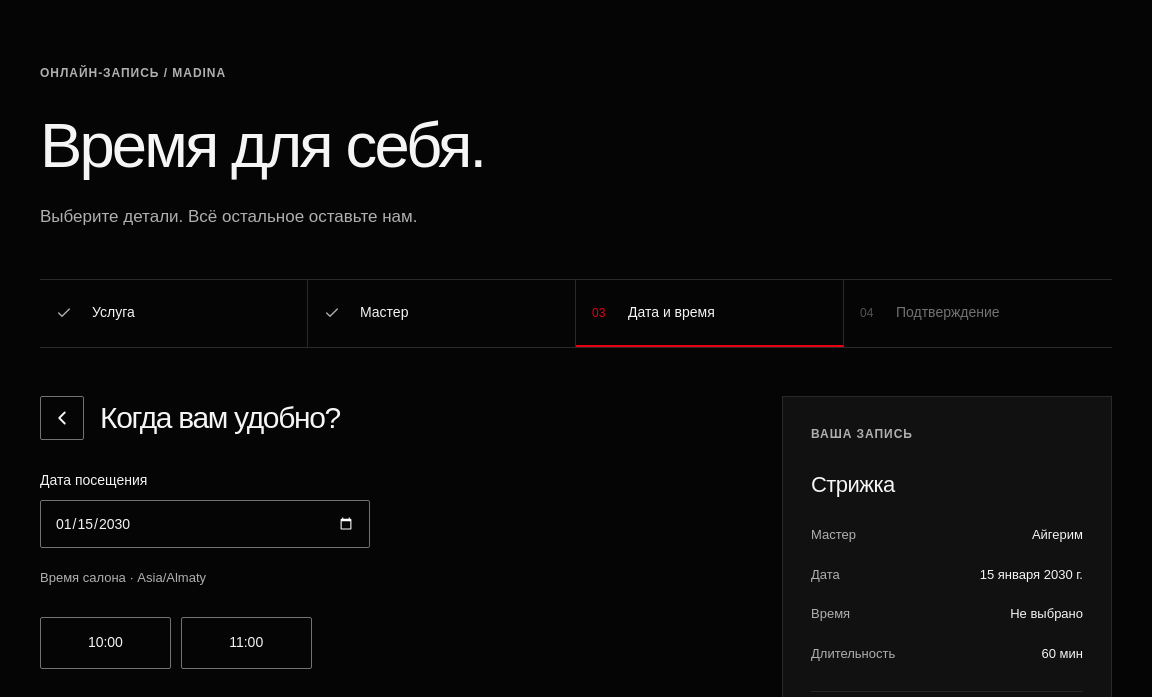
it: Book page: choosing a time › keeps «Продолжить» disabled until a time slot is selected
Step 1. Click the button "10:00" → [105, 643], box [40,617,171,669]
(page scrolled)
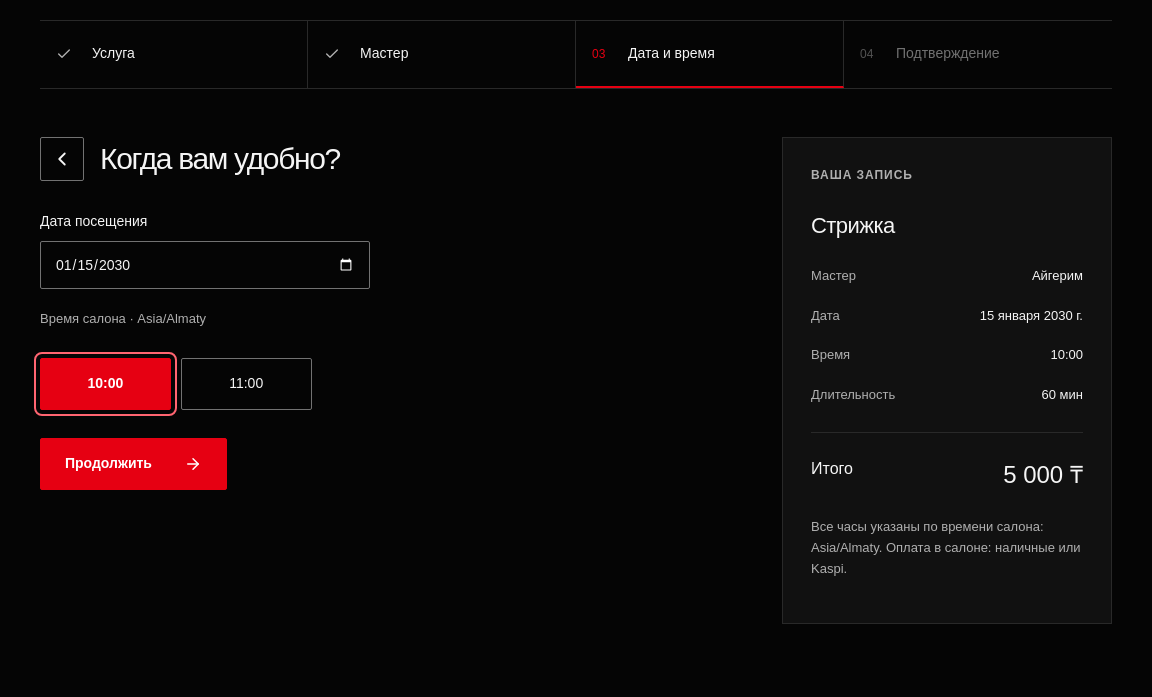
Expected: the button "Продолжить" is enabled
Step 2. Click the button "Продолжить" → [134, 464], box [40,438,227,490]
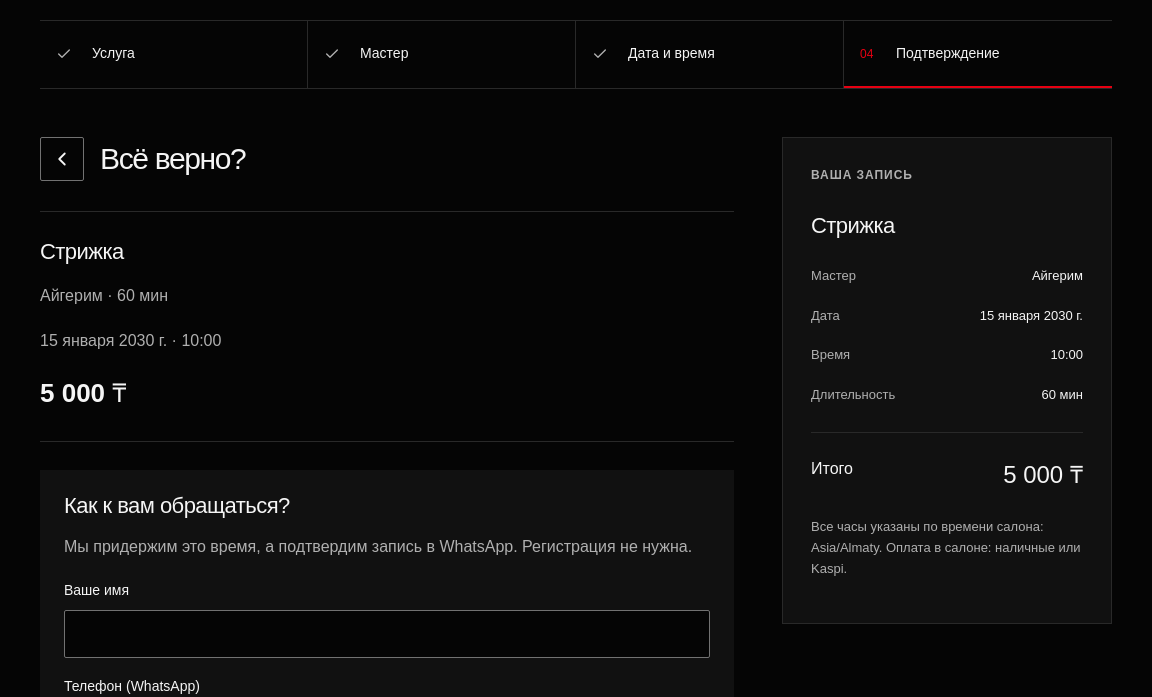
Expected: the heading "Всё верно?" is shown, [100,142,245,176]
